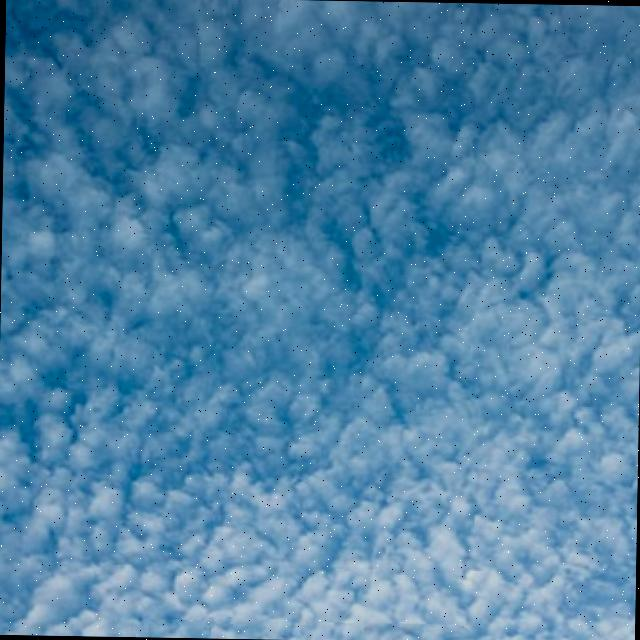Cc: (1, 91, 640, 583)
